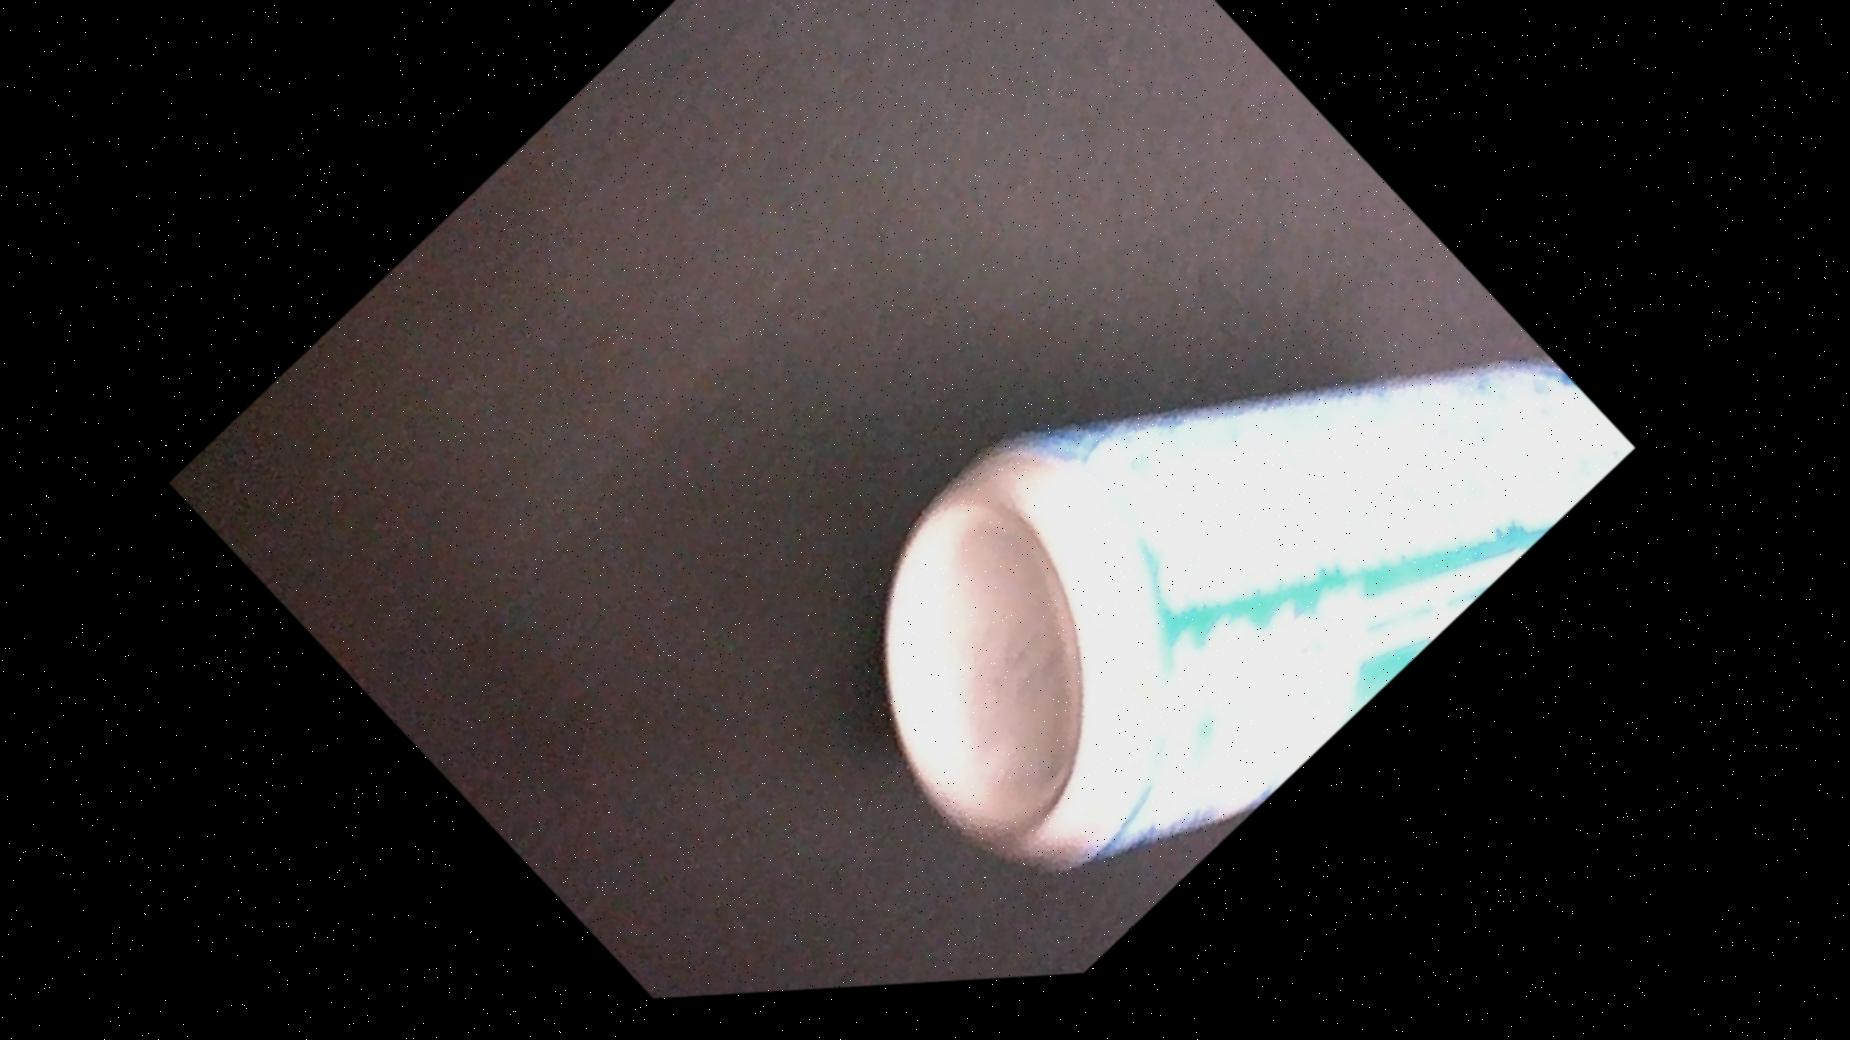letsbe: (767, 119, 1653, 1003)
